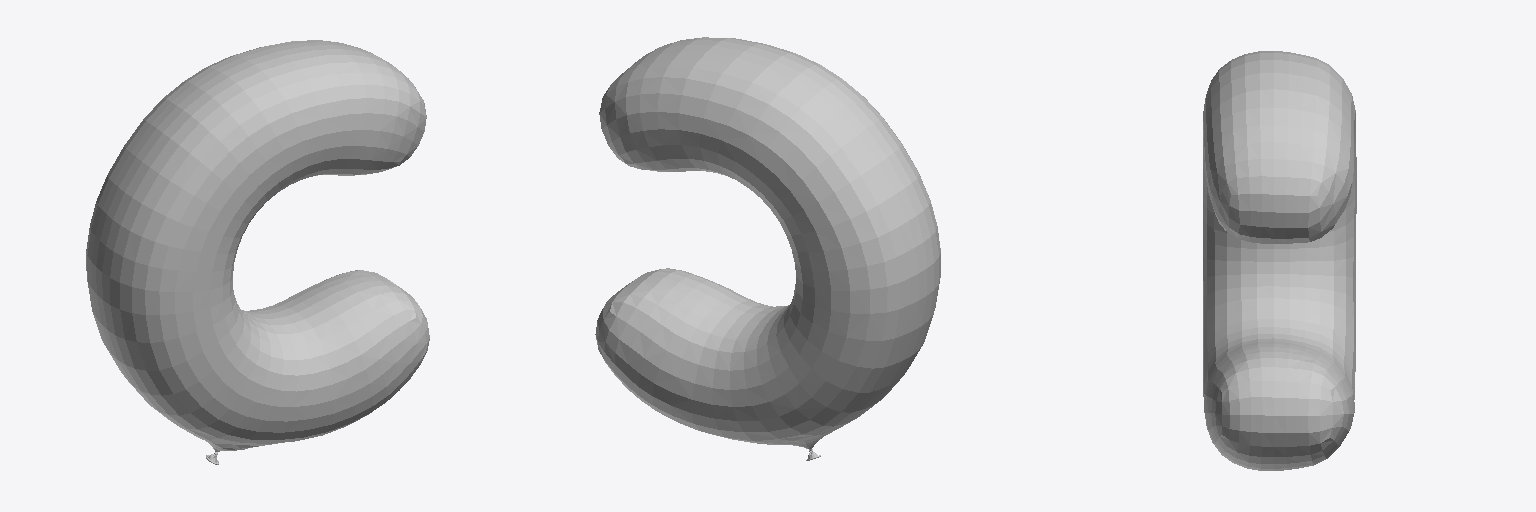
The model's file is balloonc.obj.
3 renders of one model, left to right at view 1: azimuth 30°, elevation 25°; view 2: azimuth 150°, elevation 25°; view 3: azimuth 270°, elevation 25°, orthographic.
Visible parts, largest first — view 1: Balloon_Alphabet_Subdivision_C; view 2: Balloon_Alphabet_Subdivision_C; view 3: Balloon_Alphabet_Subdivision_C.
Boxes of the visible parts, <box> form: Balloon_Alphabet_Subdivision_C: <box>86,40,429,464</box>; Balloon_Alphabet_Subdivision_C: <box>595,37,940,460</box>; Balloon_Alphabet_Subdivision_C: <box>1203,51,1356,470</box>.
Size of the model in its own units: 42.29 by 50.6 by 17.97.